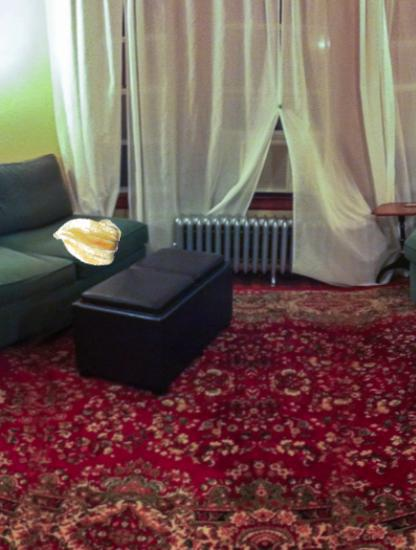Physalis: (53, 206, 120, 273)
